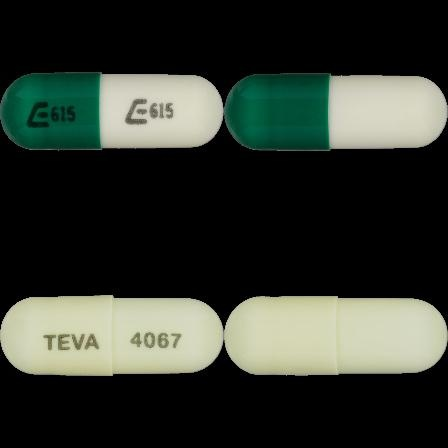33261-858: (0, 0, 224, 224)
